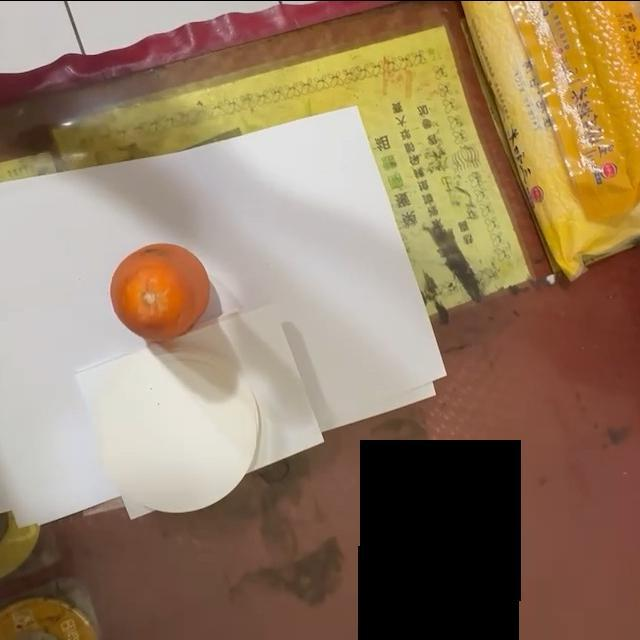carrot: (111, 243, 212, 343)
